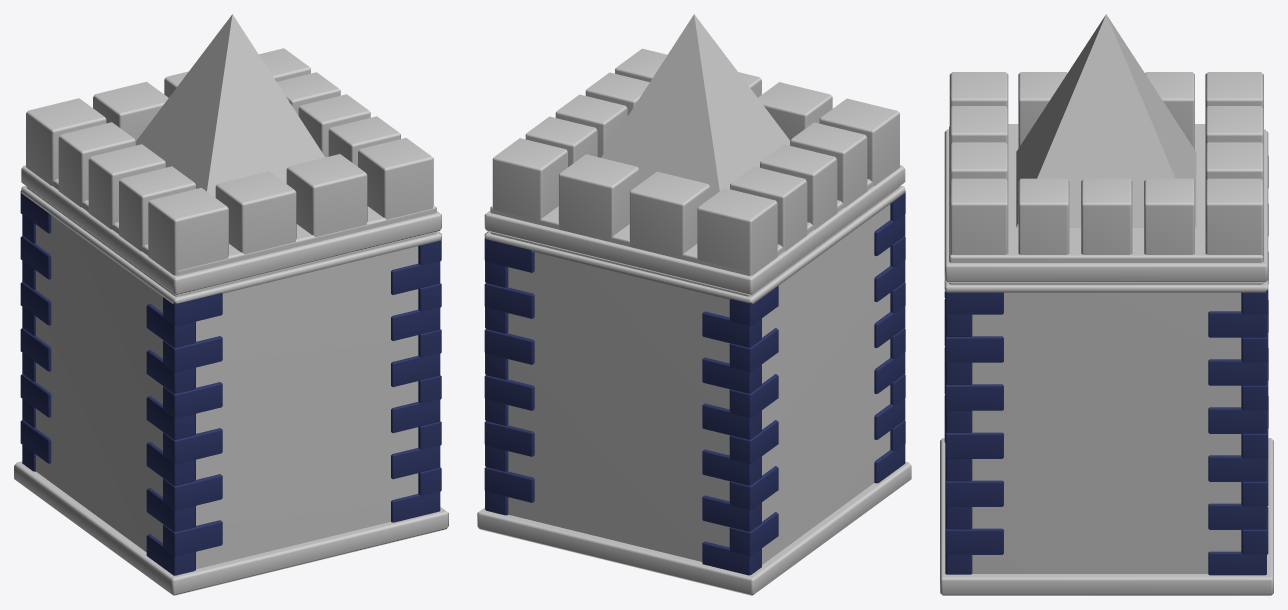
Rendered from straight_pointy_roof.fbx.
The picture shows the model from 3 angles, left to right: view 1: azimuth 30°, elevation 25°; view 2: azimuth 150°, elevation 25°; view 3: azimuth 270°, elevation 25°; orthographic projection. The views are drawn at different scales.
Parts seen in each view (by area): view 1: straight_pointy_roof; view 2: straight_pointy_roof; view 3: straight_pointy_roof.
Part boxes in pixels (box(x1,y1,x2,y2)): straight_pointy_roof: box(14, 14, 448, 595); straight_pointy_roof: box(477, 14, 911, 595); straight_pointy_roof: box(940, 14, 1273, 595).
Bounding box in the file's own units: 416 × 702 × 414.
